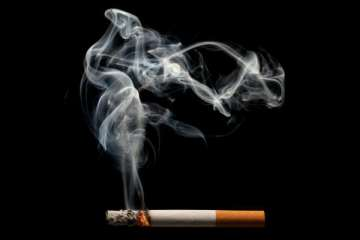cigarette: (102, 209, 271, 227)
